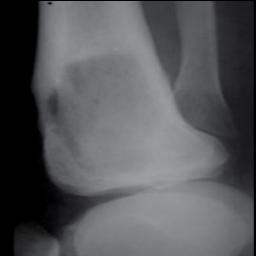cancer: (33, 53, 229, 186)
